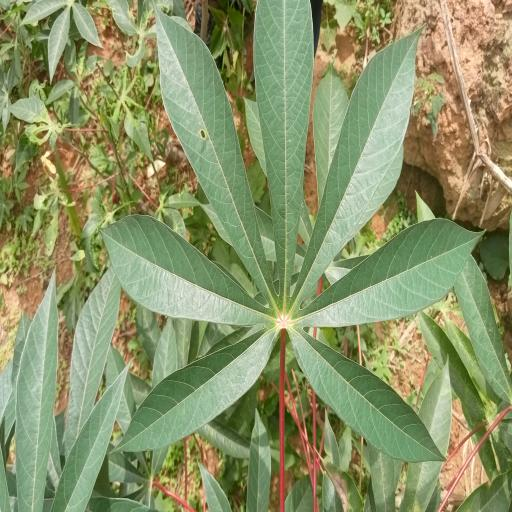Cassava_Healthy: (100, 0, 492, 473)
